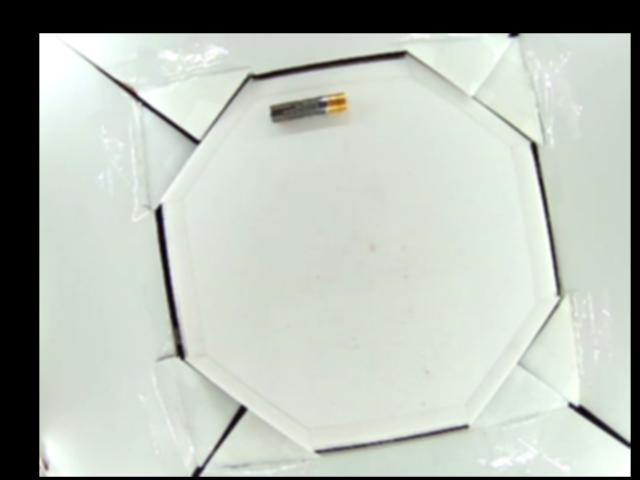Battery: (269, 92, 347, 126)
